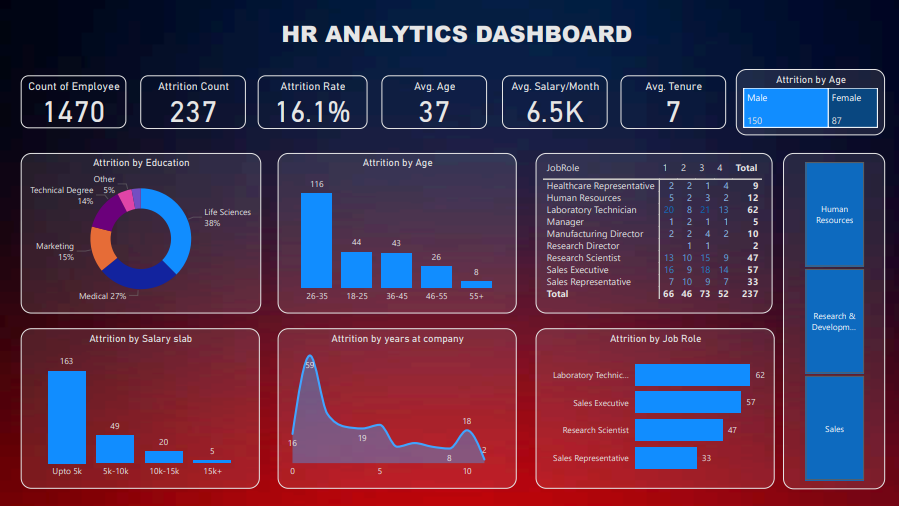

This screenshot's page, from the dashboard's own definition file:
{"tool":"powerbi","page":{"name":"Page 1","canvas":[1280,720],"ordinal":0},"visuals":[{"type":"group","id":"g1","title":"Group 1","box":[29.2,107.7,1004.6,75.4],"z":0},{"type":"card","title":"Count of Employee","fields":{"Values":["CountNonNull(HR_Analytics.EmpID)"]},"box":[29.2,107.7,150,75],"z":0,"group":"g1"},{"type":"card","title":"Attrition Count","fields":{"Values":["HR_Analytics.Attrition_Count"]},"box":[199.6,107.7,150,75.9],"z":1000,"group":"g1"},{"type":"donutChart","title":"Attrition by Education","fields":{"Category":["HR_Analytics.EducationField"],"Y":["HR_Analytics.Attrition_Count"]},"box":[29.2,218.5,341.5,227.7],"z":1000},{"type":"card","title":"Attrition Rate","fields":{"Values":["HR_Analytics.AttritionRate"]},"box":[366.2,107.7,155.6,75.9],"z":2000,"group":"g1"},{"type":"columnChart","title":"Attrition by Age","fields":{"Y":["HR_Analytics.Attrition_Count"],"Category":["HR_Analytics.AgeGroup"]},"box":[395.4,218.5,340,227.7],"z":2000},{"type":"card","title":"Avg. Age","fields":{"Values":["Avg(HR_Analytics.Age)"]},"box":[542.2,107.7,150,75.9],"z":3000,"group":"g1"},{"type":"pivotTable","fields":{"Rows":["HR_Analytics.JobRole"],"Columns":["HR_Analytics.JobSatisfaction"],"Values":["HR_Analytics.Attrition_Count"]},"box":[763.1,218.5,336.9,227.7],"z":3000},{"type":"card","title":"Avg. Salary/Month","fields":{"Values":["Avg(HR_Analytics.MonthlyIncome)"]},"box":[714.4,107.7,150,75.9],"z":4000,"group":"g1"},{"type":"columnChart","title":"Attrition by Salary slab","fields":{"Y":["HR_Analytics.Attrition_Count"],"Category":["HR_Analytics.SalarySlab"]},"box":[29.2,467.7,340,227.7],"z":4000},{"type":"card","title":"Avg. Tenure","fields":{"Values":["Avg(HR_Analytics.YearsAtCompany)"]},"box":[882.9,107.7,150,75.9],"z":5000,"group":"g1"},{"type":"barChart","title":"Attrition by Job Role","fields":{"Y":["HR_Analytics.Attrition_Count"],"Category":["HR_Analytics.JobRole"]},"box":[763.1,467.7,340,227.7],"z":5000},{"type":"areaChart","title":"Attrition by years at company","fields":{"Y":["HR_Analytics.Attrition_Count"],"Category":["HR_Analytics.YearsAtCompany"]},"box":[395.4,467.7,340,227.7],"z":6000},{"type":"treemap","title":"Attrition by Age","fields":{"Group":["HR_Analytics.Gender"],"Values":["HR_Analytics.Attrition_Count"]},"box":[1047.7,98.5,212.3,93.8],"z":7000},{"type":"slicer","fields":{"Values":["HR_Analytics.Department"]},"box":[1114.9,217.9,144.8,477.6],"z":8000},{"type":"textbox","box":[381.5,20,536.9,61.5],"z":9000}]}

Visuals, with their boxes in screenshot pixels (x1, y1, x2, y2), scaled from the page's 1280x720 canvas onto the 899x506 screenshot:
"Group 1" group: pyautogui.locateOnScreen(21, 76, 726, 129)
"Count of Employee" card: pyautogui.locateOnScreen(21, 76, 126, 128)
"Attrition Count" card: pyautogui.locateOnScreen(140, 76, 246, 129)
"Attrition by Education" donutChart: pyautogui.locateOnScreen(21, 154, 260, 314)
"Attrition Rate" card: pyautogui.locateOnScreen(257, 76, 366, 129)
"Attrition by Age" columnChart: pyautogui.locateOnScreen(278, 154, 517, 314)
"Avg. Age" card: pyautogui.locateOnScreen(381, 76, 486, 129)
pivotTable - HR_Analytics.JobRole x HR_Analytics.JobSatisfaction: pyautogui.locateOnScreen(536, 154, 773, 314)
"Avg. Salary/Month" card: pyautogui.locateOnScreen(502, 76, 607, 129)
"Attrition by Salary slab" columnChart: pyautogui.locateOnScreen(21, 329, 259, 489)
"Avg. Tenure" card: pyautogui.locateOnScreen(620, 76, 725, 129)
"Attrition by Job Role" barChart: pyautogui.locateOnScreen(536, 329, 775, 489)
"Attrition by years at company" areaChart: pyautogui.locateOnScreen(278, 329, 517, 489)
"Attrition by Age" treemap: pyautogui.locateOnScreen(736, 69, 885, 135)
slicer - HR_Analytics.Department: pyautogui.locateOnScreen(783, 153, 885, 489)
textbox: pyautogui.locateOnScreen(268, 14, 645, 57)
